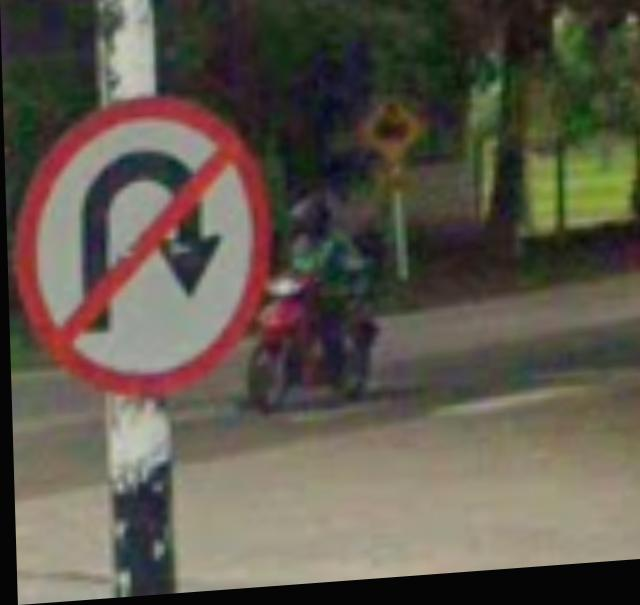not_u_turn_right: (13, 91, 287, 410)
